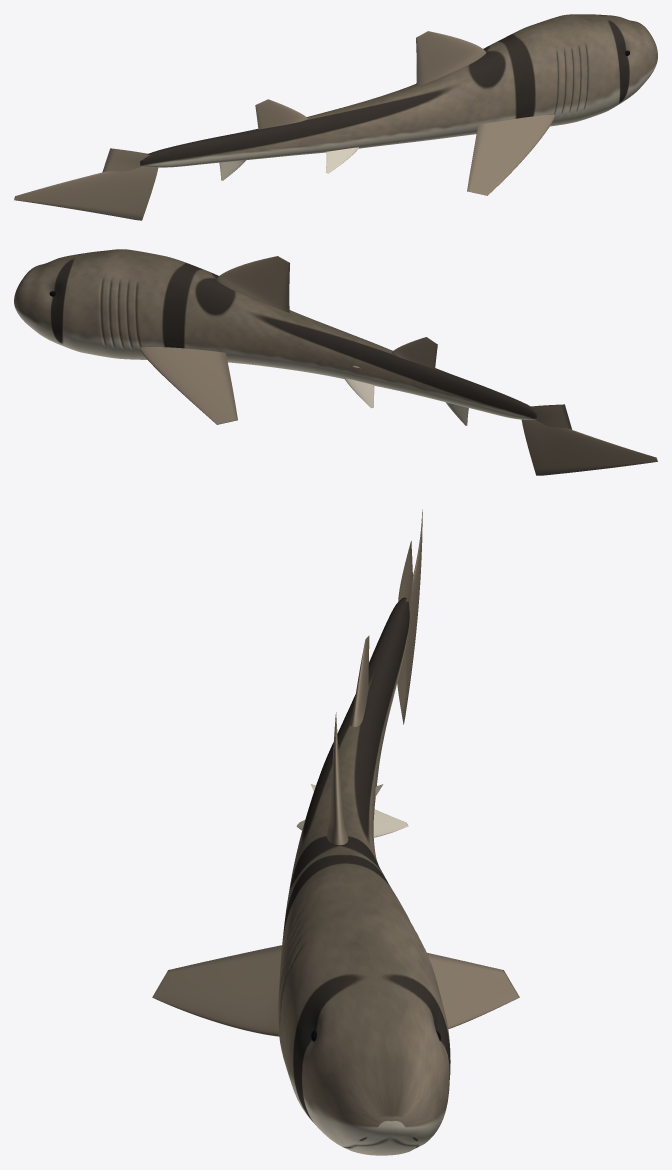
File: port_jackson_shark.glb
3 renders of one model, top to bottom at view 1: azimuth 30°, elevation 25°; view 2: azimuth 150°, elevation 25°; view 3: azimuth 270°, elevation 25°, orthographic. The views are drawn at different scales.
Parts seen in each view (by area): view 1: port_jackson_shark_Body, port_jackson_shark_Fins; view 2: port_jackson_shark_Body, port_jackson_shark_Fins; view 3: port_jackson_shark_Body, port_jackson_shark_Fins.
Part boxes in pixels (<box>): port_jackson_shark_Body: <box>140,14,657,167</box>; port_jackson_shark_Fins: <box>14,31,555,220</box>; port_jackson_shark_Body: <box>14,249,538,419</box>; port_jackson_shark_Fins: <box>139,256,657,475</box>; port_jackson_shark_Body: <box>278,597,450,1155</box>; port_jackson_shark_Fins: <box>152,509,519,1036</box>.
Size of the model in its own units: 1.4 by 0.2885 by 0.3526.
3 materials, 1 textured.
